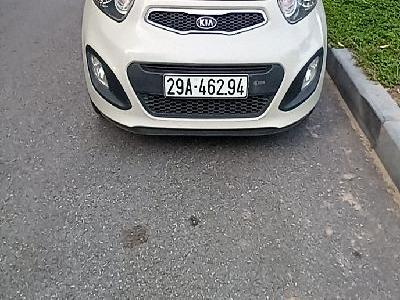lisence: (160, 71, 250, 100)
